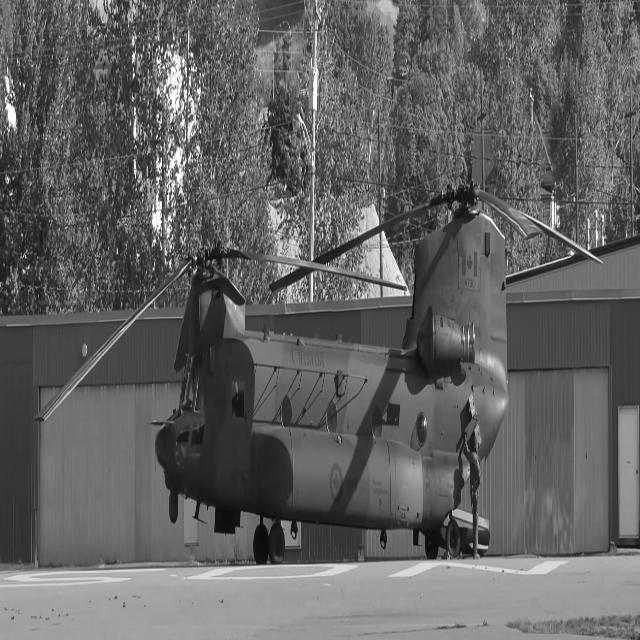Helicopter: (153, 188, 508, 564)
